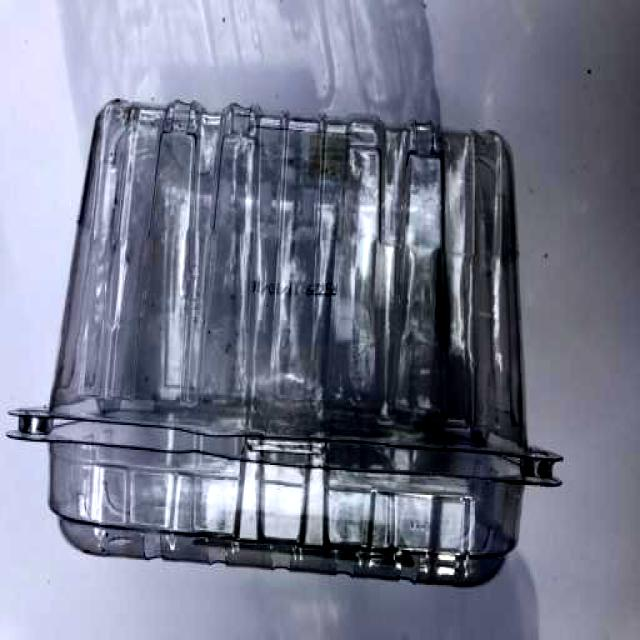Plastic: (3, 90, 565, 592)
